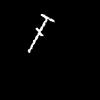double_crochet: (28, 14, 53, 52)
